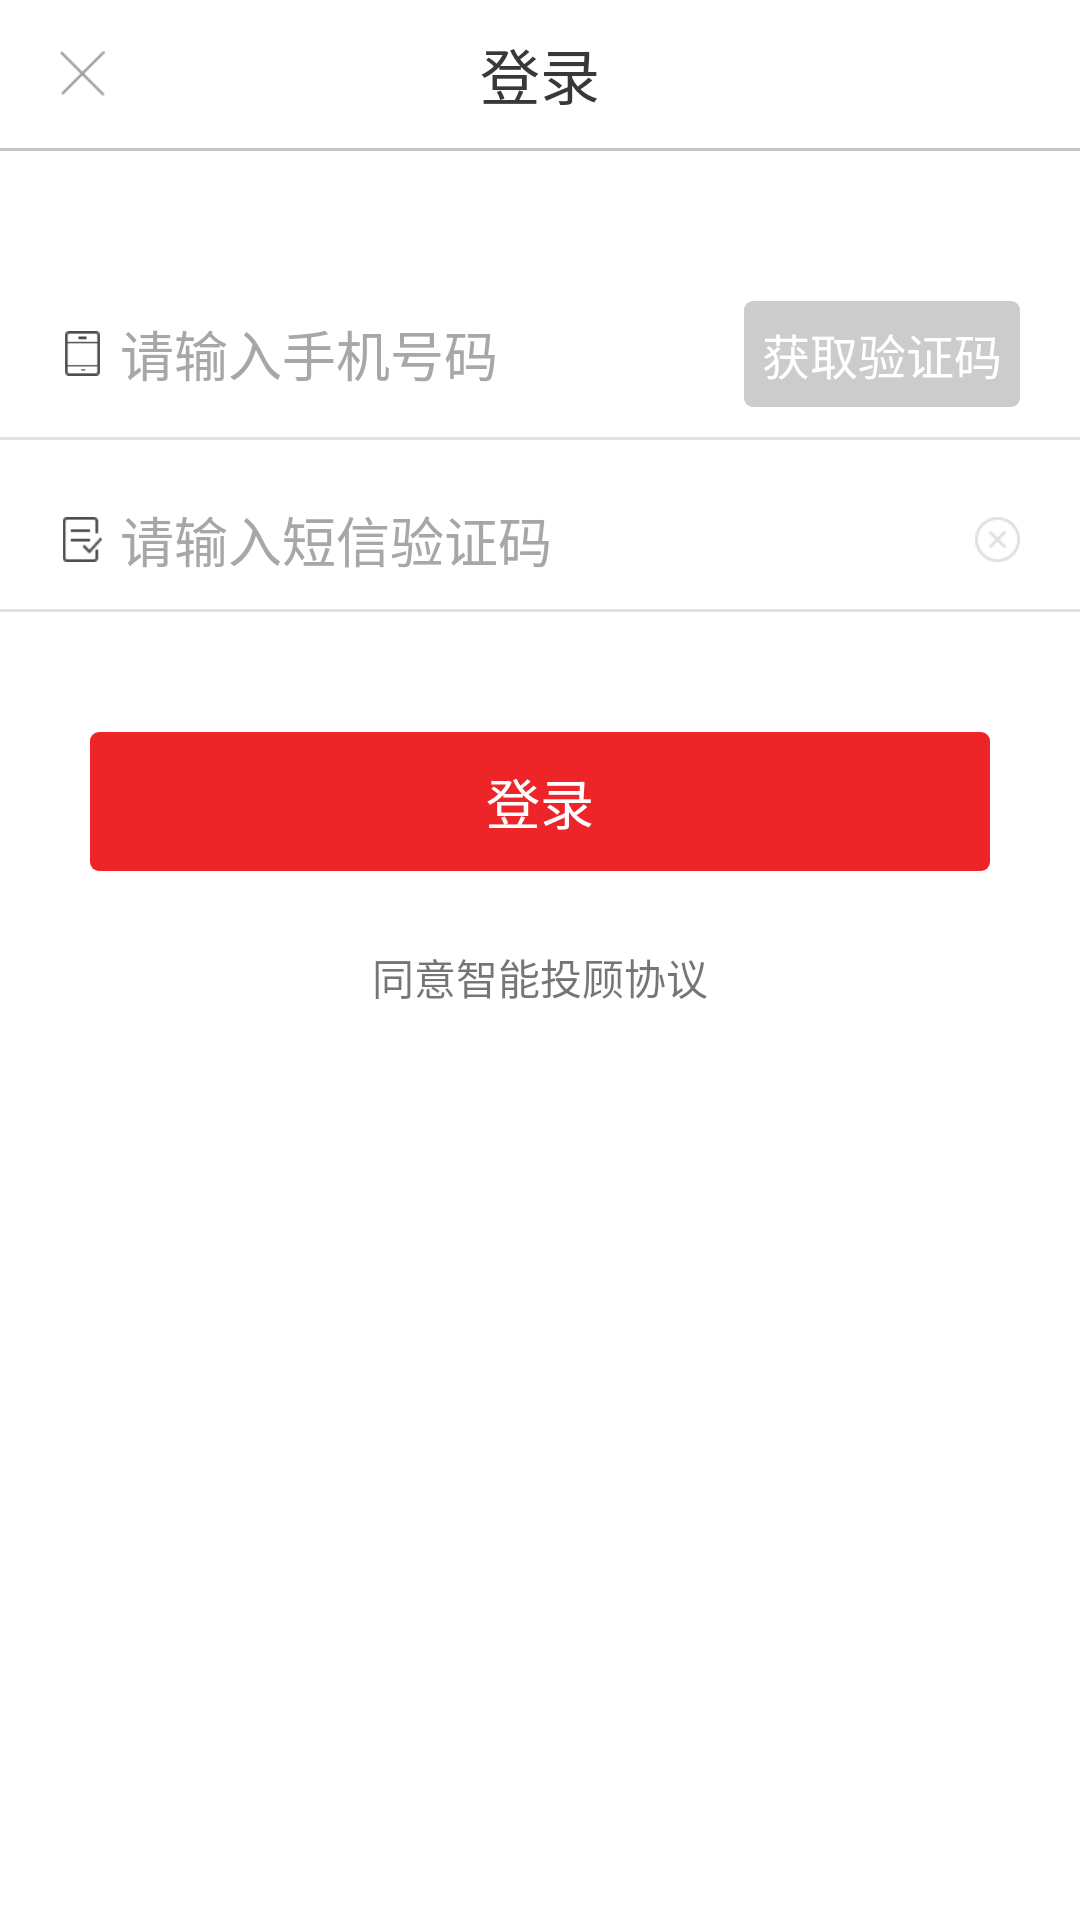

Named icons in this screenshot (1080x1920) and their bounding boxes, (x1, y1, x2, y2):
clear code: (975, 517, 1020, 562)
phone: (65, 331, 100, 376)
verifycode: (63, 517, 102, 562)
